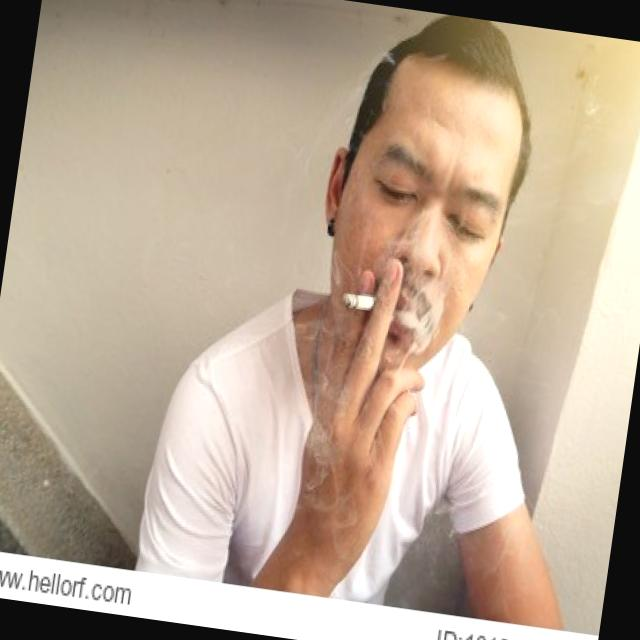cigarette: (332, 285, 389, 324)
